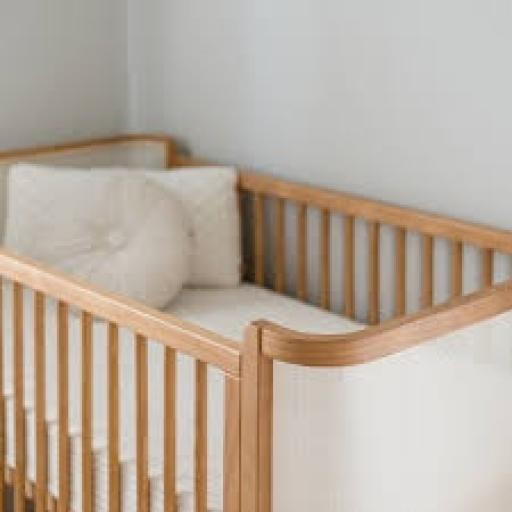crib: (0, 171, 511, 511)
